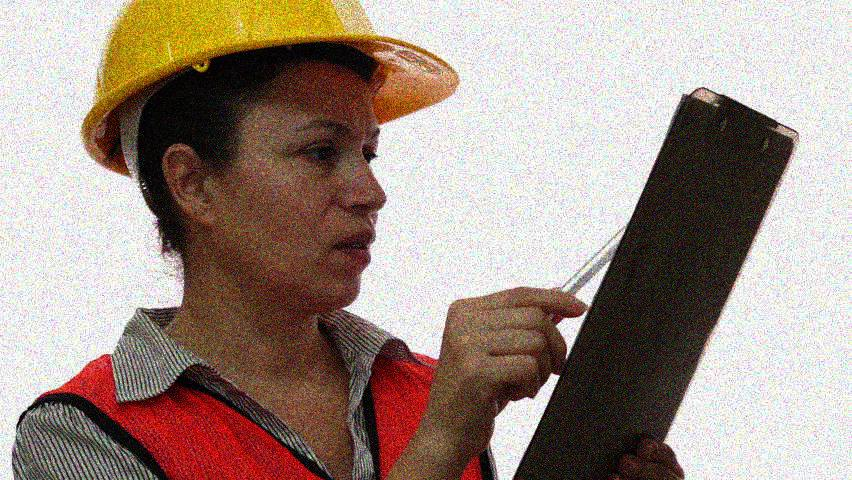helmet: (78, 1, 463, 316)
